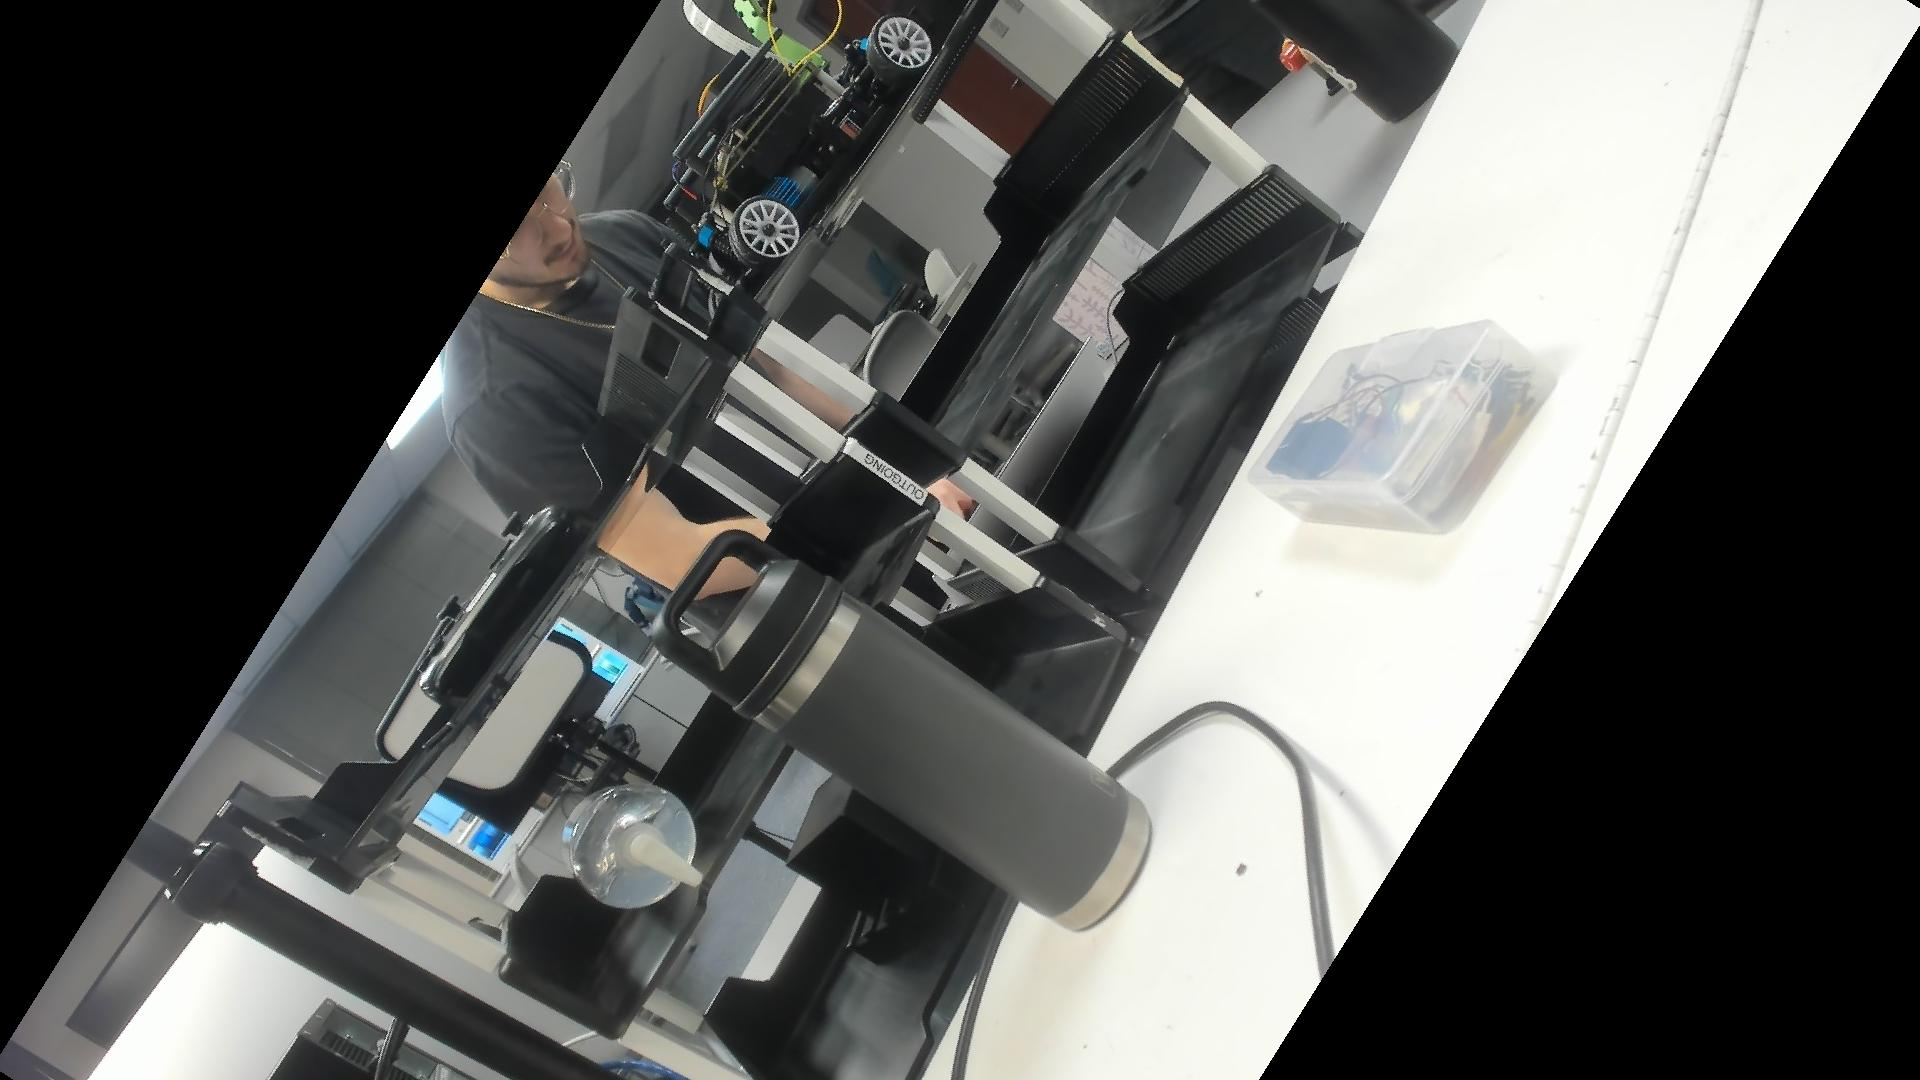black pallet: (782, 764, 969, 972)
